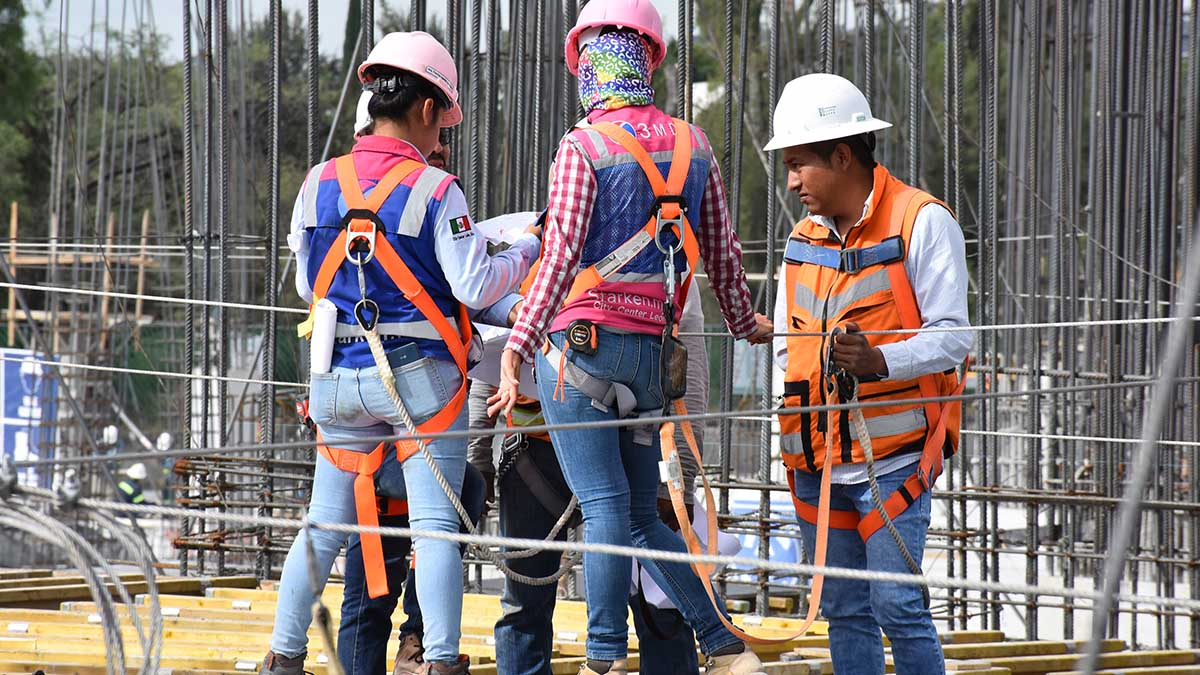Casco de seguridad: (357, 31, 462, 126), (763, 73, 892, 150), (564, 0, 665, 74)
